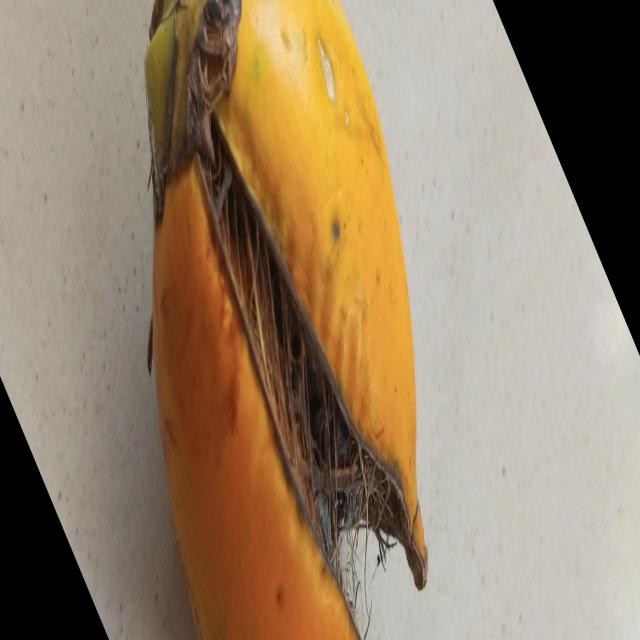damaged: (145, 0, 427, 640)
